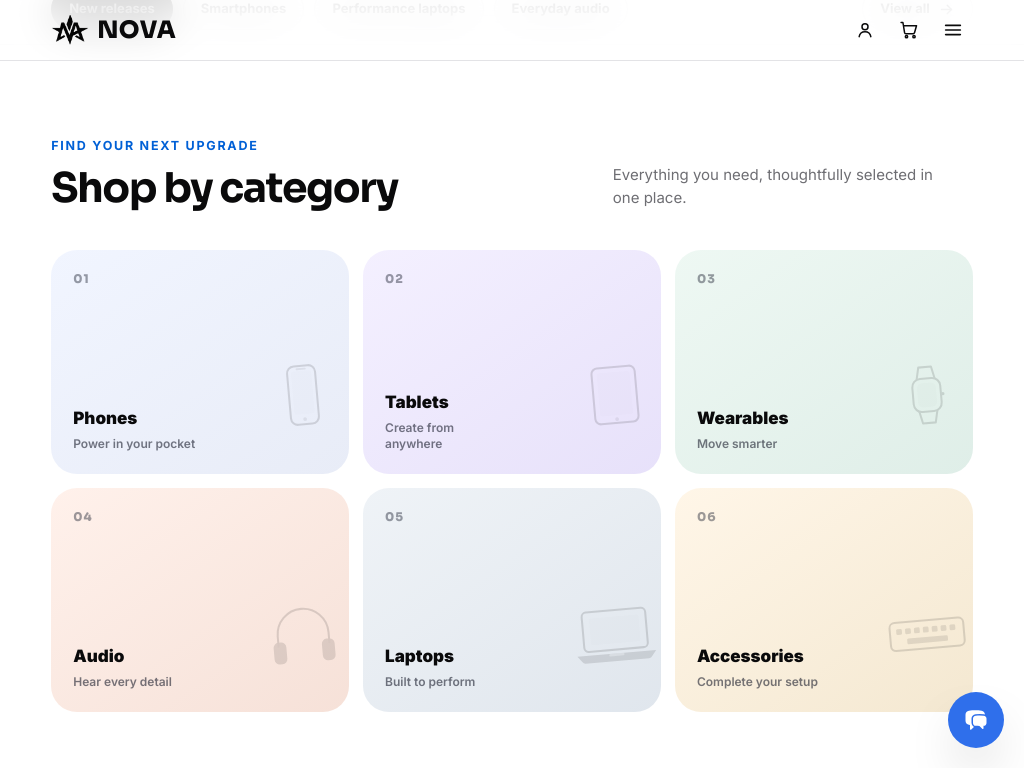
Test case: NOVA storefront › navigates from a homepage category to the filtered catalog
(page scrolled)
Expected: the heading "Shop by category" is shown, [51,167,398,210]
Click the link "01 Phones Power in your pocket": (105, 418) [51,250,349,474]
(page scrolled)
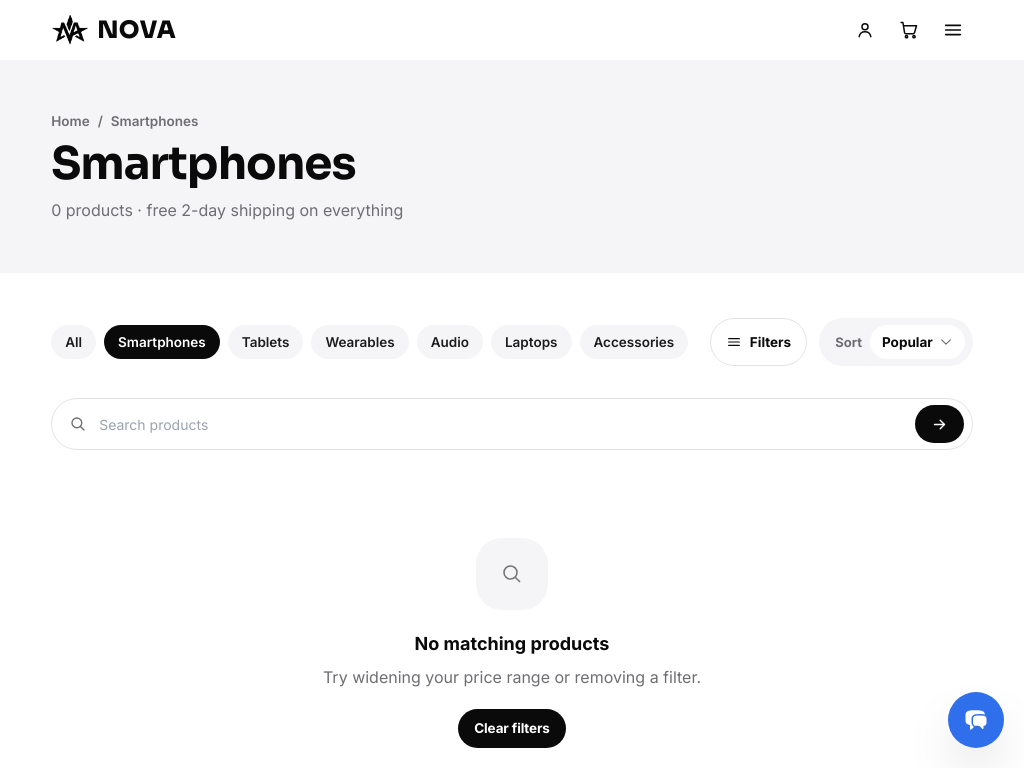
Now the heading "Smartphones" is shown, box [51,135,356,192]
